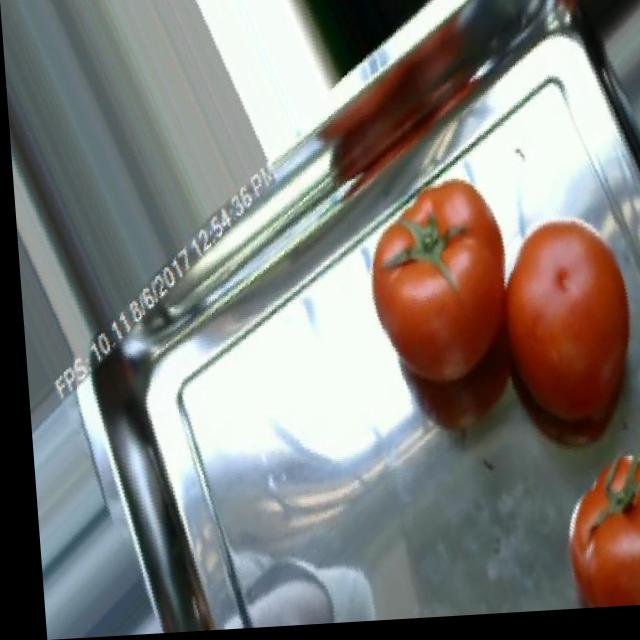kirmizi: (343, 167, 640, 445)
